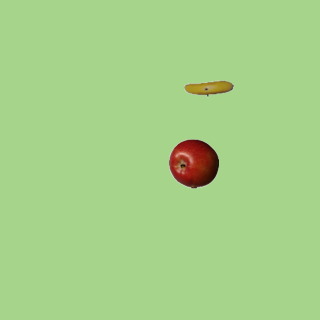Apple Braeburn: (168, 138, 218, 188)
Banana: (183, 63, 233, 113)
